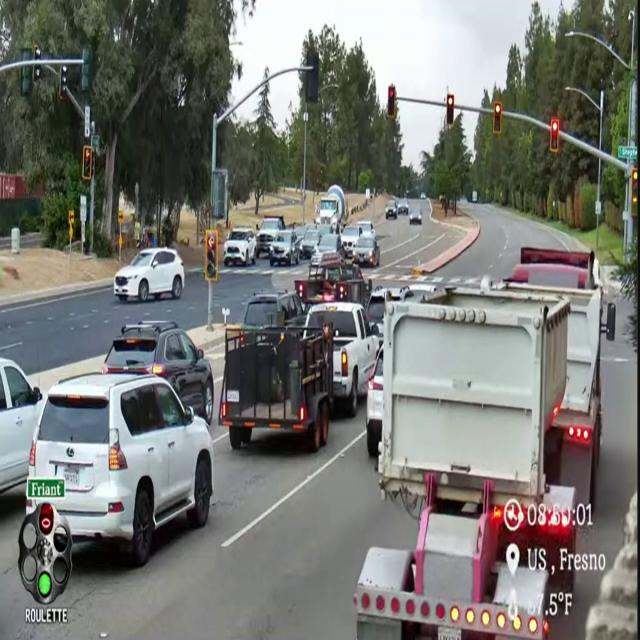car: (29, 374, 213, 566), (101, 321, 213, 423), (0, 358, 42, 493), (114, 248, 184, 302), (366, 286, 413, 341), (241, 291, 304, 328), (366, 348, 383, 457), (223, 228, 256, 266), (256, 216, 285, 258), (269, 230, 299, 266), (353, 236, 379, 267), (314, 234, 344, 259), (340, 224, 362, 257), (300, 227, 321, 258), (357, 221, 375, 237), (385, 200, 397, 219), (409, 208, 422, 224), (318, 224, 334, 236), (397, 199, 409, 215), (420, 192, 425, 199)
traffic signal: (305, 51, 319, 103), (204, 230, 218, 281), (39, 503, 54, 536), (81, 46, 91, 92), (82, 145, 93, 181), (20, 66, 32, 96), (550, 118, 559, 153), (387, 85, 396, 119), (493, 102, 502, 135), (59, 65, 67, 101), (446, 94, 454, 126), (631, 167, 637, 205), (33, 65, 41, 82)
truck: (354, 288, 577, 639), (495, 248, 615, 510), (219, 326, 332, 452), (305, 303, 378, 417), (294, 253, 372, 309), (316, 184, 347, 233), (255, 216, 285, 258)
